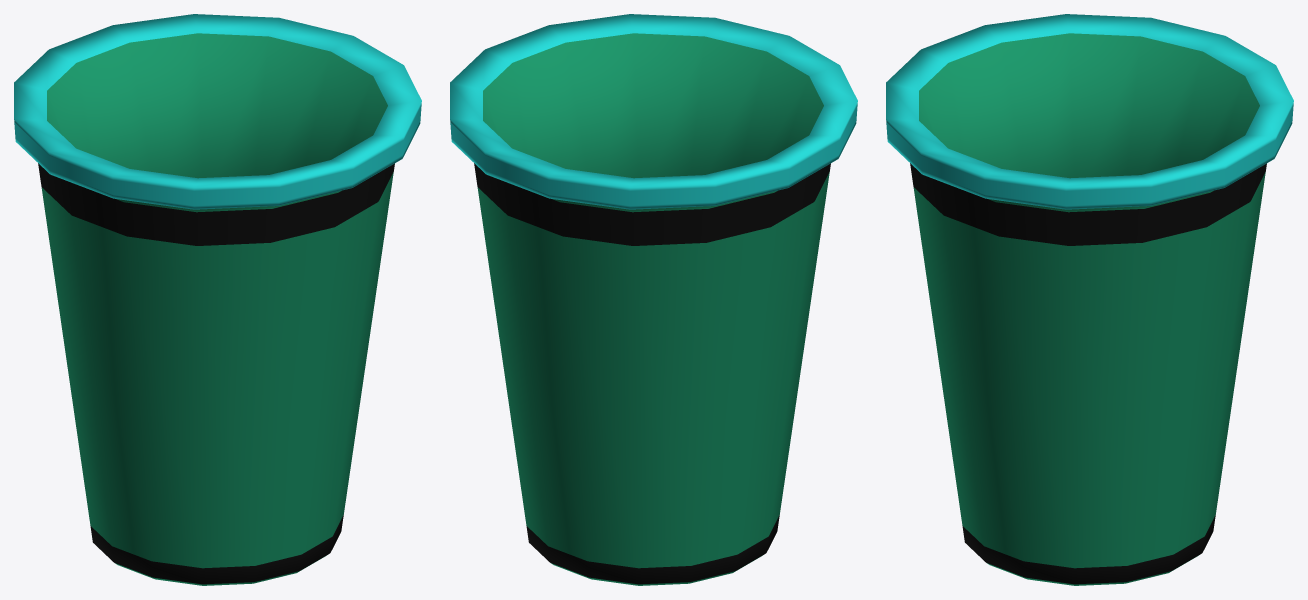
Rendered from Cup (1).fbx.
3 views of the same model, side by side, from view 1: azimuth 30°, elevation 25°; view 2: azimuth 150°, elevation 25°; view 3: azimuth 270°, elevation 25° (orthographic).
Visible parts, largest first — view 1: Cup; view 2: Cup; view 3: Cup.
Part boxes in pixels (box(x1,y1,x2,y2)): Cup: box(14, 14, 421, 585); Cup: box(450, 14, 857, 585); Cup: box(886, 14, 1293, 585).
Size of the model in its own units: 27.95 by 32.67 by 27.79.
